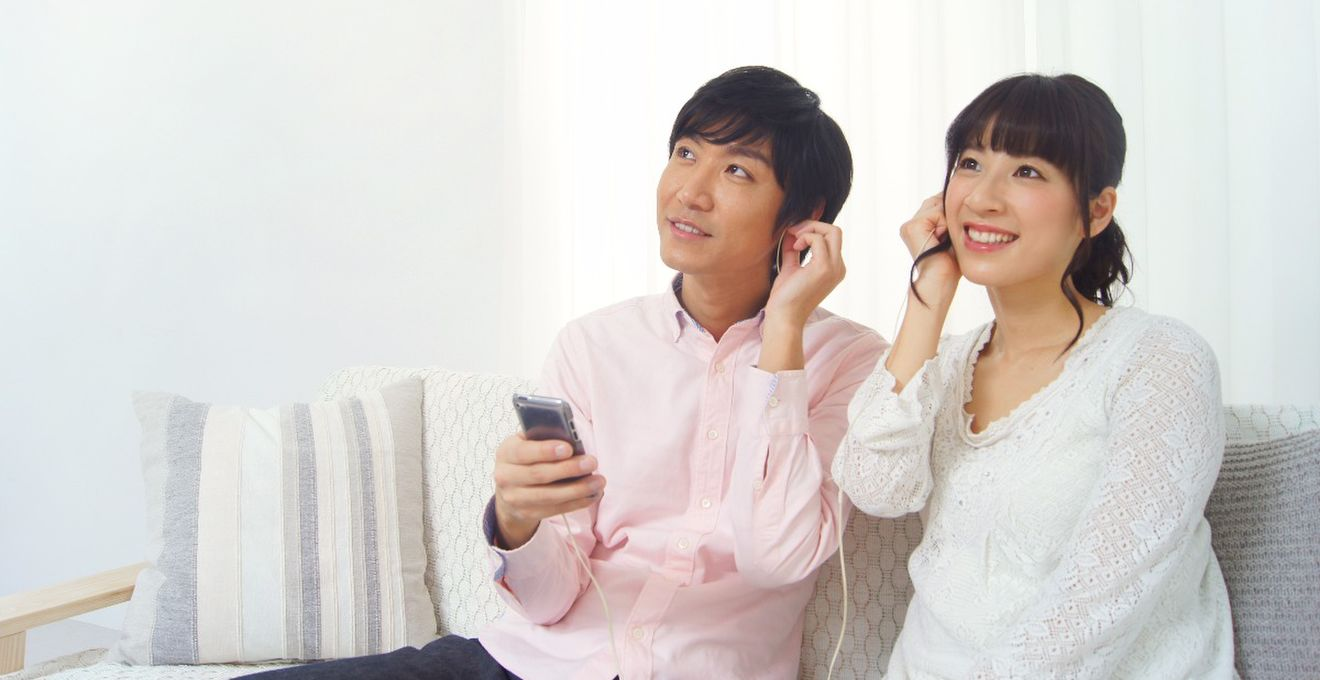face: (944, 110, 1115, 289), (656, 112, 825, 274)
hand: (492, 432, 604, 527), (767, 219, 847, 310), (899, 187, 960, 289)
